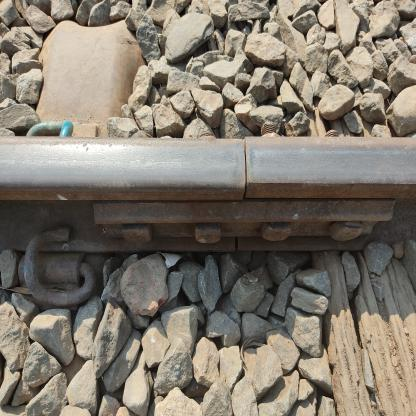Non Defective 1: (12, 222, 104, 320)
Non Defective 2: (228, 128, 278, 212)
Non Defective 3: (70, 176, 410, 301)
